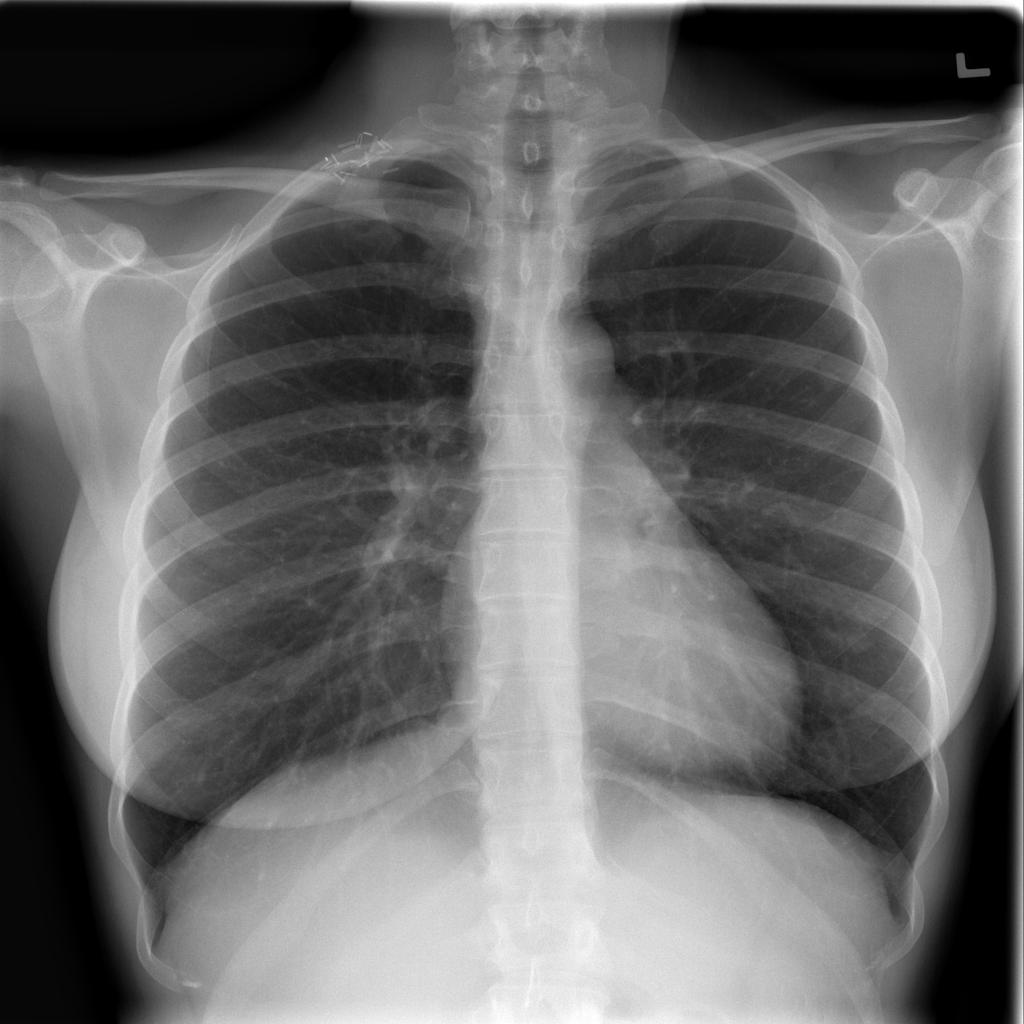nodule: (815, 608, 898, 672), (805, 350, 857, 401)
